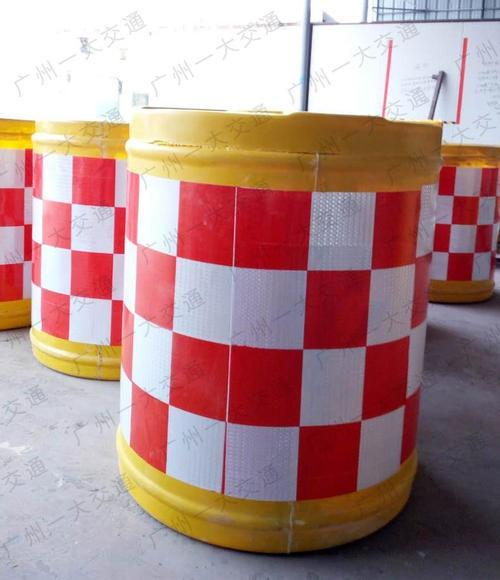cone_barrel: (112, 92, 442, 562), (31, 119, 126, 381), (429, 144, 493, 301)
